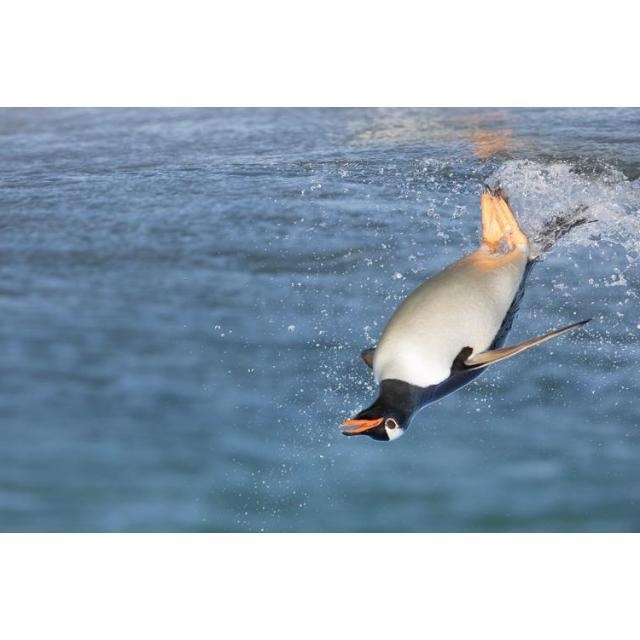penguin: (337, 181, 594, 443)
